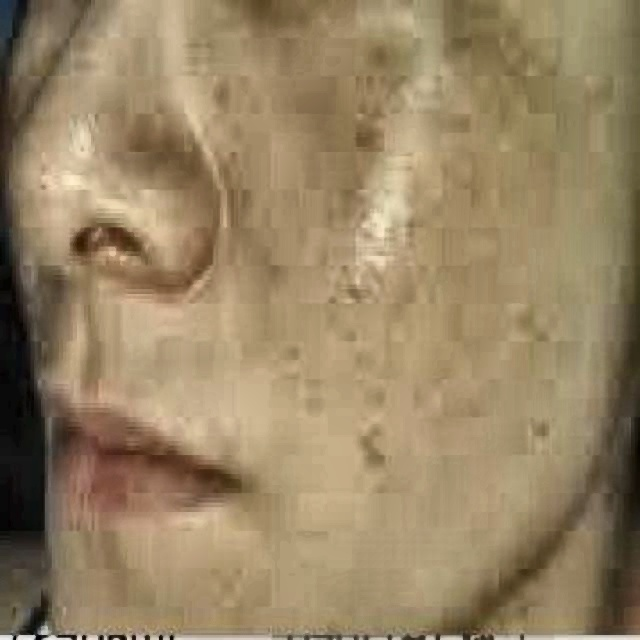comedone: (356, 114, 406, 154)
